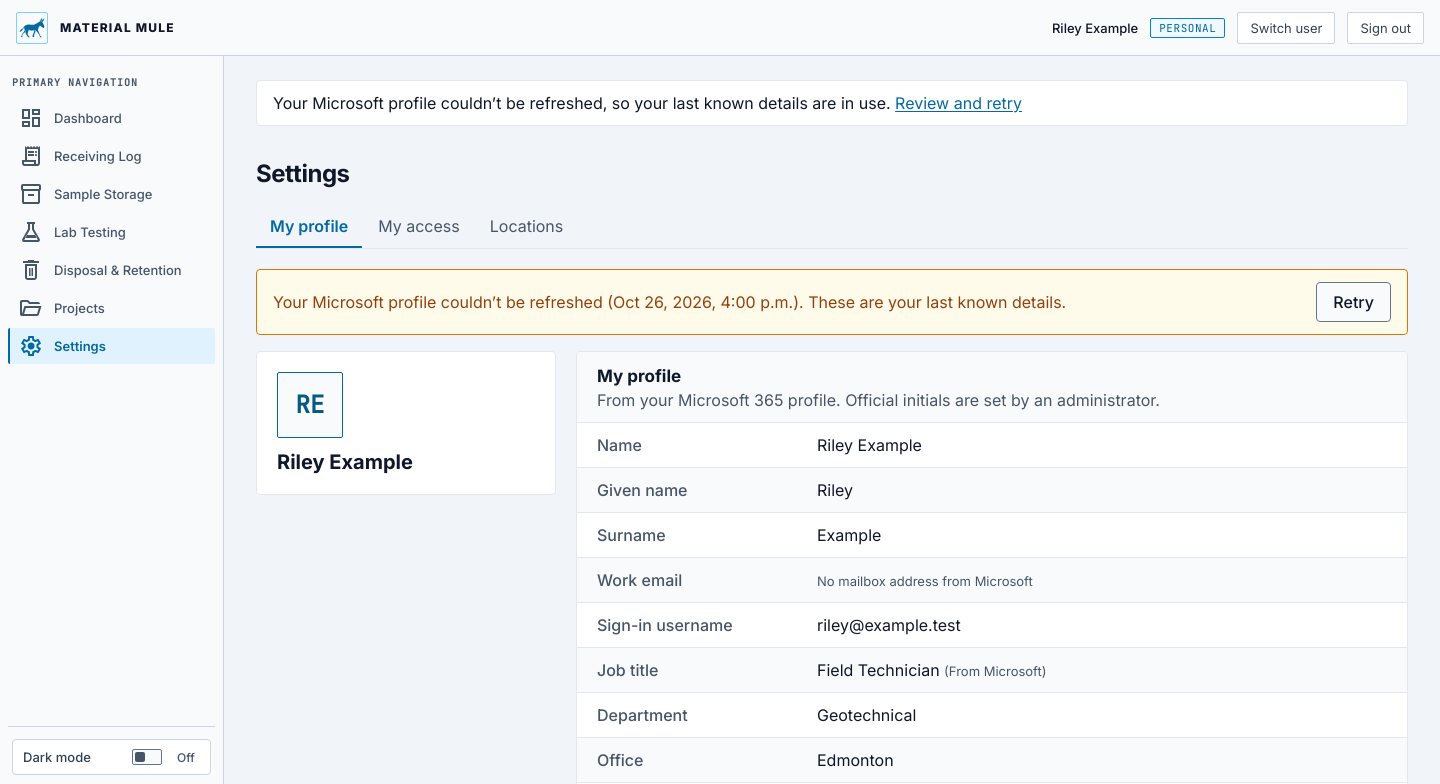
My profile › shows imported fields, their source, the username labelled as such, and a Retry
Check: the text "Field Technician" is shown, box [817, 660, 940, 680]
Check: the text "No mailbox address from Microsoft" is shown, box [817, 573, 1033, 589]
Click the button "Retry" at (1354, 302), box [1316, 282, 1391, 322]
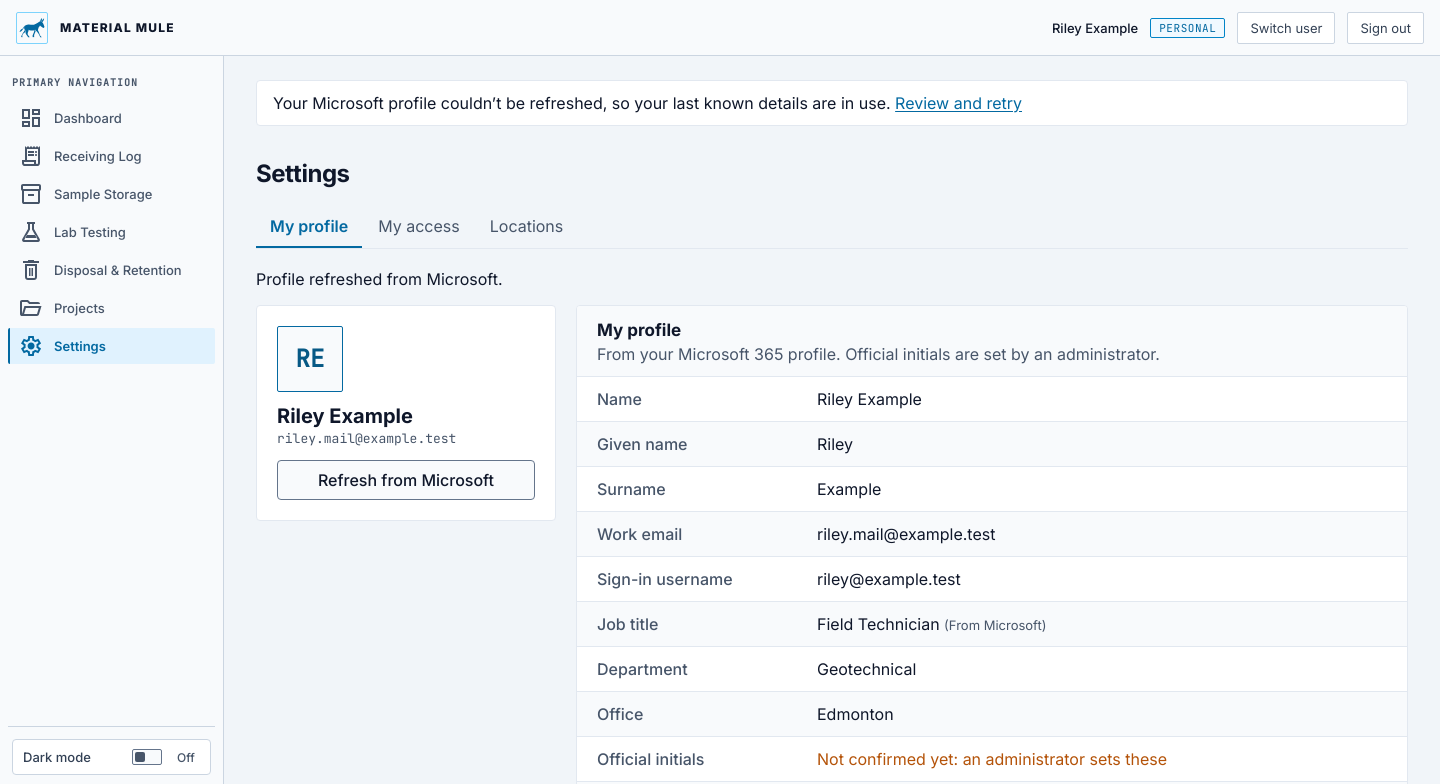
Check: the text "Profile refreshed from Microsoft." is shown, box [256, 269, 503, 289]
Check: the text "riley.mail@example.test" next to "Work email" is shown, box [817, 524, 996, 544]
